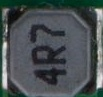Induktor: (3, 5, 98, 95)
